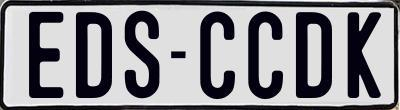C: (245, 9, 284, 102), (198, 9, 237, 100)
D: (76, 11, 117, 103), (294, 12, 334, 101)
E: (26, 11, 60, 99)
K: (345, 12, 383, 102)
S: (123, 8, 163, 98)
